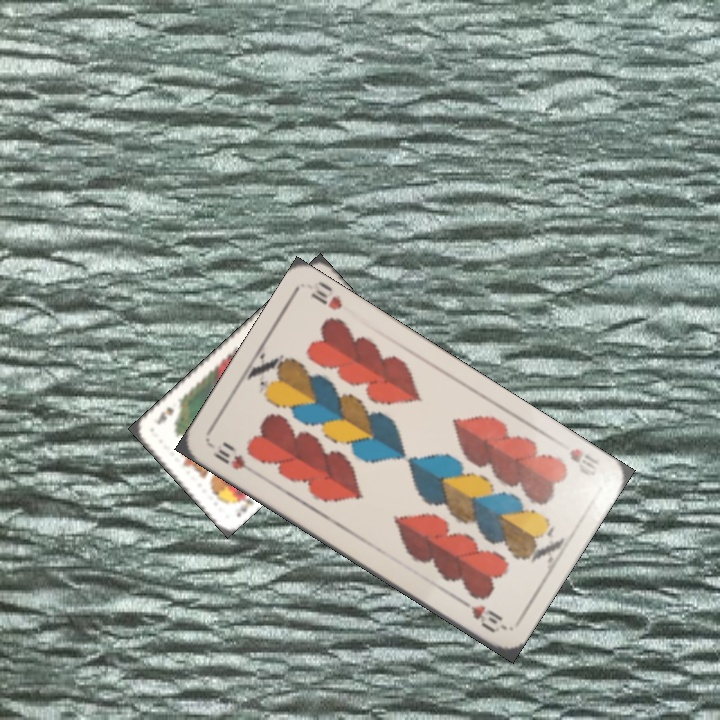H10: (208, 444, 260, 478), (565, 444, 603, 468)
SK: (230, 492, 257, 520)
